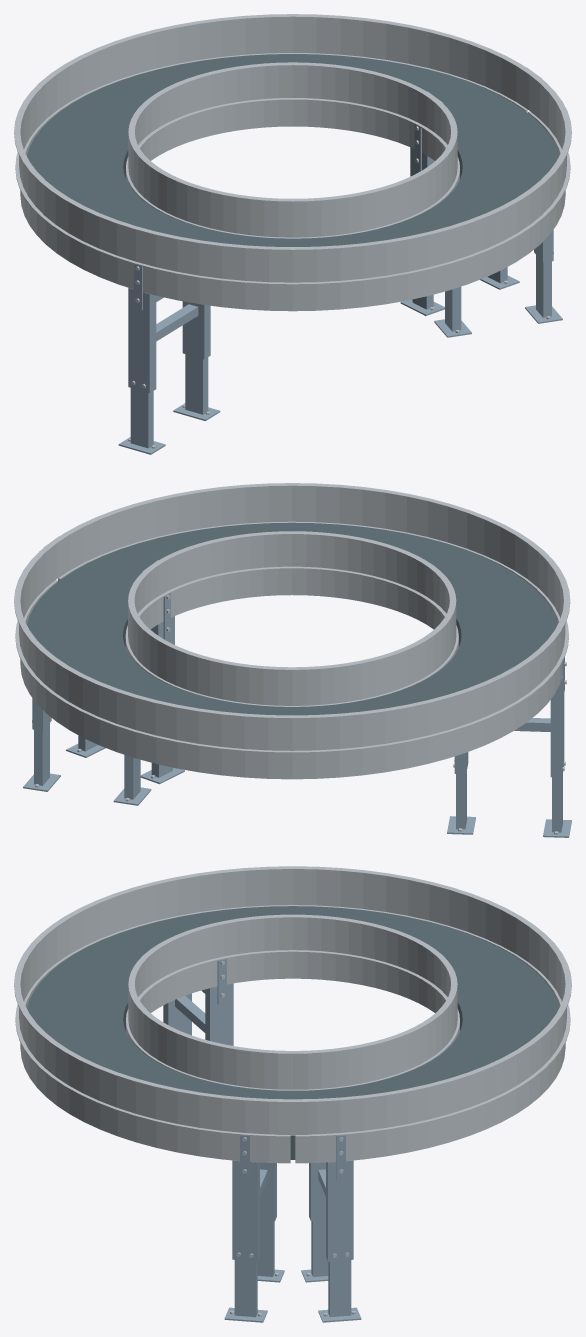
The model's file is circular-conveyor-assembled.glb.
3 views of the same model, one above another, from view 1: azimuth 30°, elevation 25°; view 2: azimuth 150°, elevation 25°; view 3: azimuth 270°, elevation 25° (orthographic).
Visible parts, largest first — view 1: guard_2_0, belt_0_0, frame_1_0, leg_3_0; view 2: guard_2_0, belt_0_0, frame_1_0, leg_3_0; view 3: guard_2_0, belt_0_0, frame_1_0, leg_3_0.
Boxes of the visible parts, x1,y1,x2,y2 form: guard_2_0: [14, 14, 571, 282]; belt_0_0: [27, 54, 558, 246]; frame_1_0: [15, 51, 570, 311]; leg_3_0: [118, 125, 562, 454]; guard_2_0: [14, 483, 570, 750]; belt_0_0: [27, 522, 557, 715]; frame_1_0: [15, 520, 568, 779]; leg_3_0: [23, 593, 571, 837]; guard_2_0: [14, 866, 571, 1135]; belt_0_0: [27, 906, 558, 1159]; frame_1_0: [15, 904, 570, 1163]; leg_3_0: [163, 959, 361, 1322].
Bounding box in the file's own units: 2.17 × 0.947 × 2.17.
